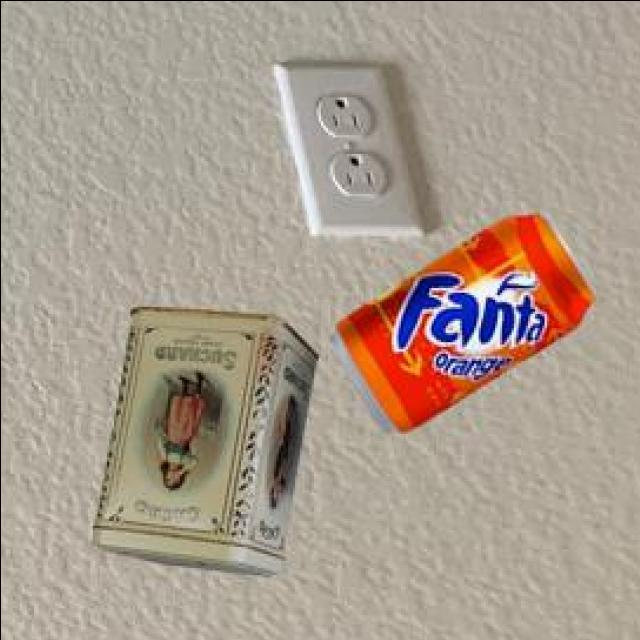logam: (95, 309, 321, 578), (333, 215, 596, 434)
